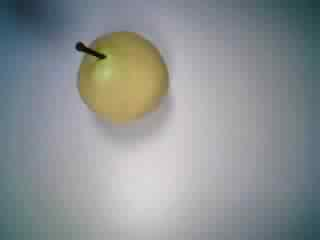pear: (58, 23, 174, 126)
